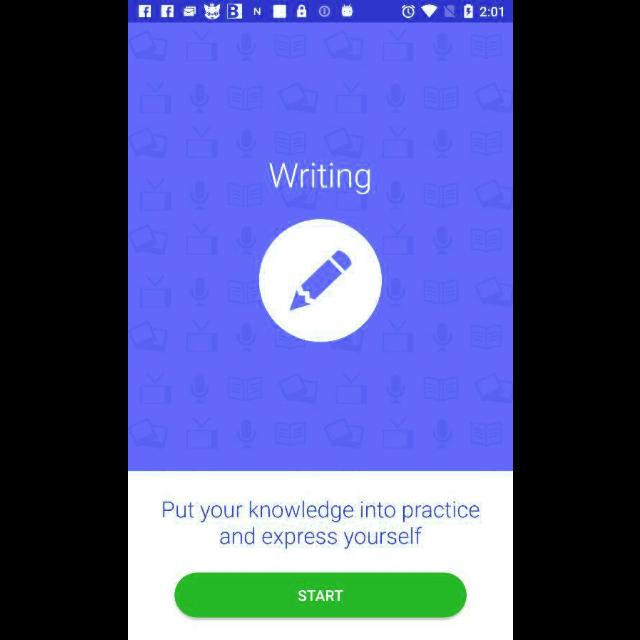image: (258, 219, 382, 343)
text: (162, 501, 480, 549), (268, 162, 370, 196)
textbutton: (174, 572, 466, 618)
uppertaskbar: (128, 1, 512, 23)
